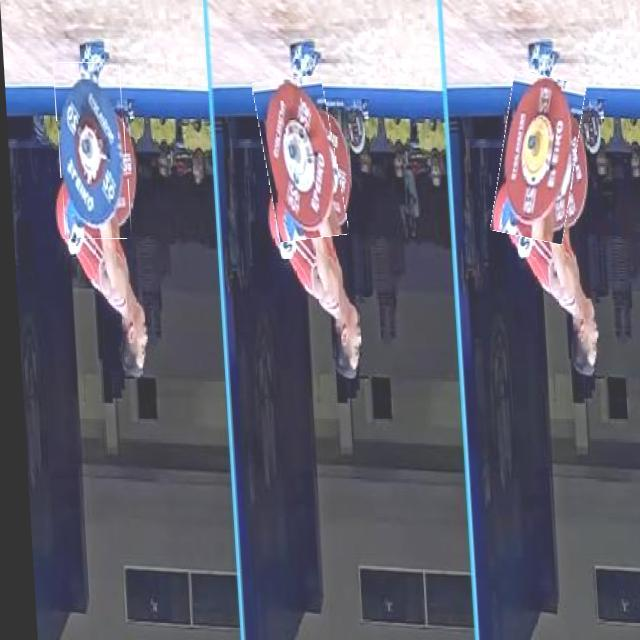barbell: (489, 74, 585, 243), (256, 78, 342, 241), (54, 63, 130, 239)
